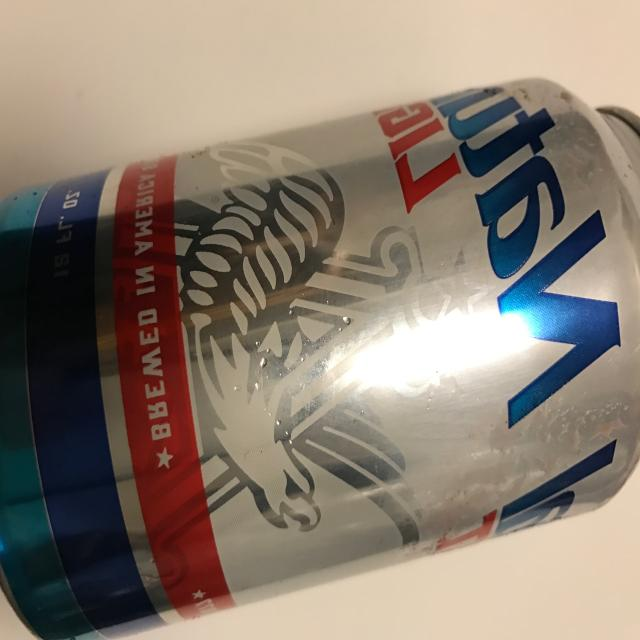metal: (0, 76, 640, 638)
